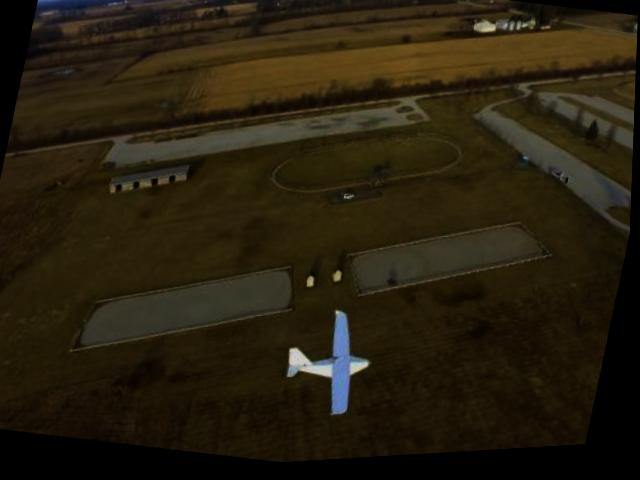uav: (271, 292, 398, 434)
